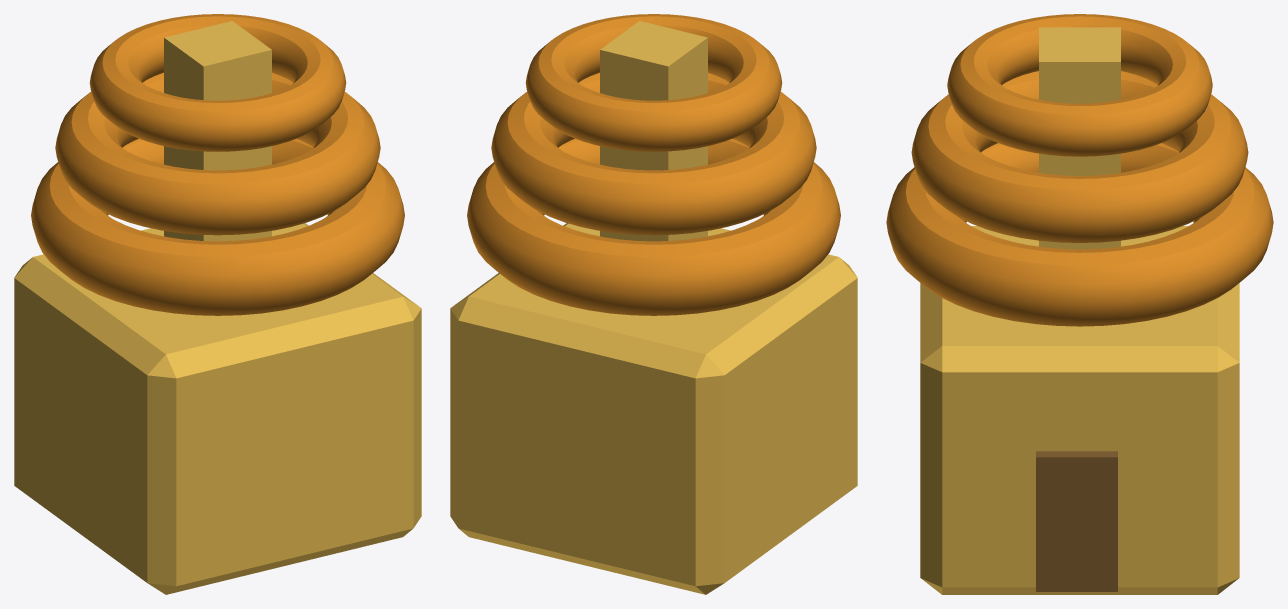
File: factoryOfHoney.fbx
The picture shows the model from 3 angles, left to right: view 1: azimuth 30°, elevation 25°; view 2: azimuth 150°, elevation 25°; view 3: azimuth 270°, elevation 25°; orthographic projection. The views are drawn at different scales.
Parts seen in each view (by area): view 1: Cube, Torus, Torus.001, Torus.002, Cube.001; view 2: Cube, Torus, Torus.001, Torus.002, Cube.001; view 3: Cube, Torus, Torus.001, Torus.002, Cube.002, Cube.001.
Part boxes in pixels (x1=…): Cube: x1=14, y1=223, x2=421, y2=594; Torus: x1=31, y1=138, x2=404, y2=315; Torus.001: x1=55, y1=73, x2=380, y2=235; Torus.002: x1=89, y1=14, x2=346, y2=151; Cube.001: x1=164, y1=21, x2=271, y2=241; Cube: x1=450, y1=223, x2=857, y2=594; Torus: x1=467, y1=138, x2=840, y2=315; Torus.001: x1=491, y1=73, x2=816, y2=235; Torus.002: x1=525, y1=14, x2=782, y2=151; Cube.001: x1=600, y1=21, x2=707, y2=241; Cube: x1=920, y1=226, x2=1239, y2=594; Torus: x1=886, y1=143, x2=1273, y2=326; Torus.001: x1=911, y1=71, x2=1248, y2=242; Torus.002: x1=947, y1=14, x2=1212, y2=156; Cube.002: x1=1036, y1=451, x2=1117, y2=591; Cube.001: x1=1039, y1=27, x2=1120, y2=249.
Size of the model in its own units: 946 by 1322 by 946.
